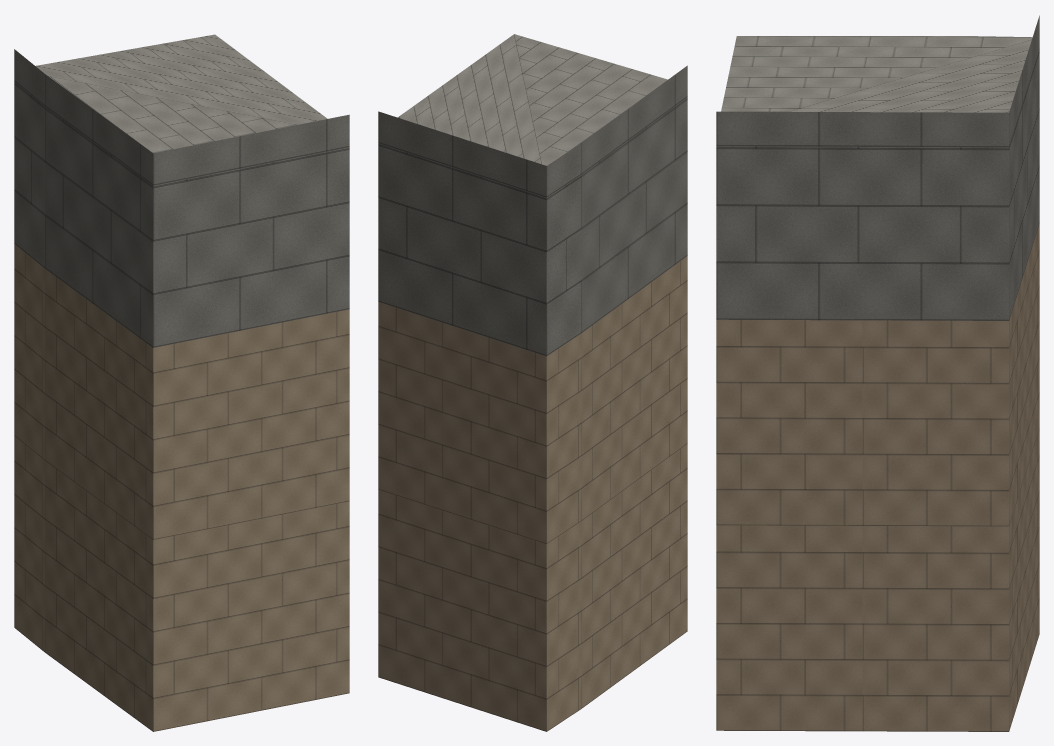
File: bld_c35_-28_444.gltf
3 views of the same model, side by side, from view 1: azimuth 30°, elevation 25°; view 2: azimuth 150°, elevation 25°; view 3: azimuth 270°, elevation 25° (orthographic). The views are drawn at different scales.
Parts seen in each view (by area): view 1: bld_c35_-28_444; view 2: bld_c35_-28_444; view 3: bld_c35_-28_444.
Boxes of the visible parts, left/top/right/bottom form: bld_c35_-28_444: left=14, top=34, right=349, bottom=731; bld_c35_-28_444: left=378, top=34, right=687, bottom=731; bld_c35_-28_444: left=716, top=15, right=1039, bottom=731.
Bounding box in the file's own units: 2.32 × 6.78 × 3.21.
Materials: 4 (4 with a texture image).
